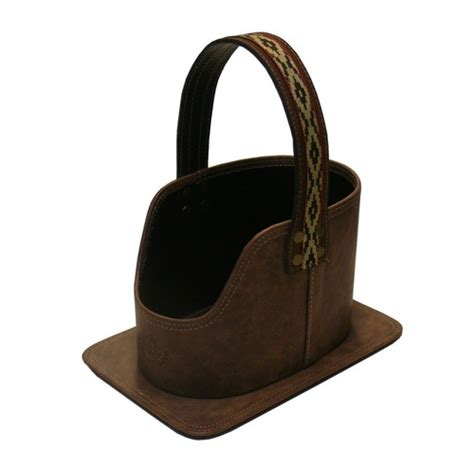cuero: (79, 28, 404, 441)
